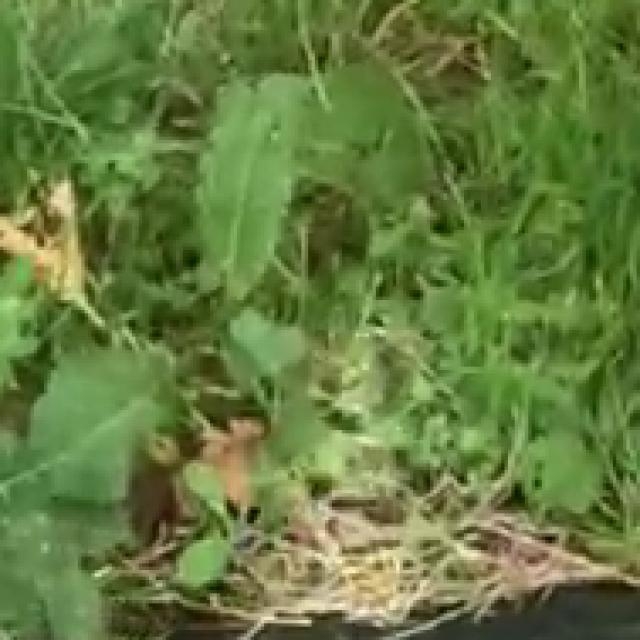organic waste: (166, 13, 447, 370), (0, 333, 213, 586)
